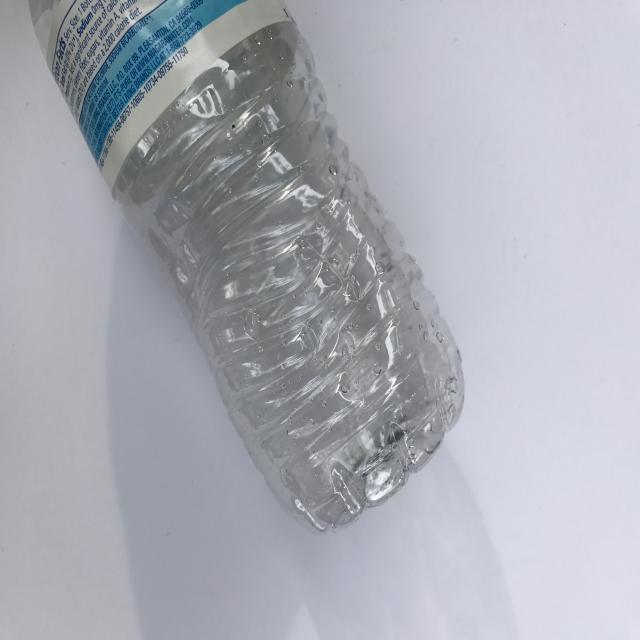plastic: (27, 0, 466, 534)
